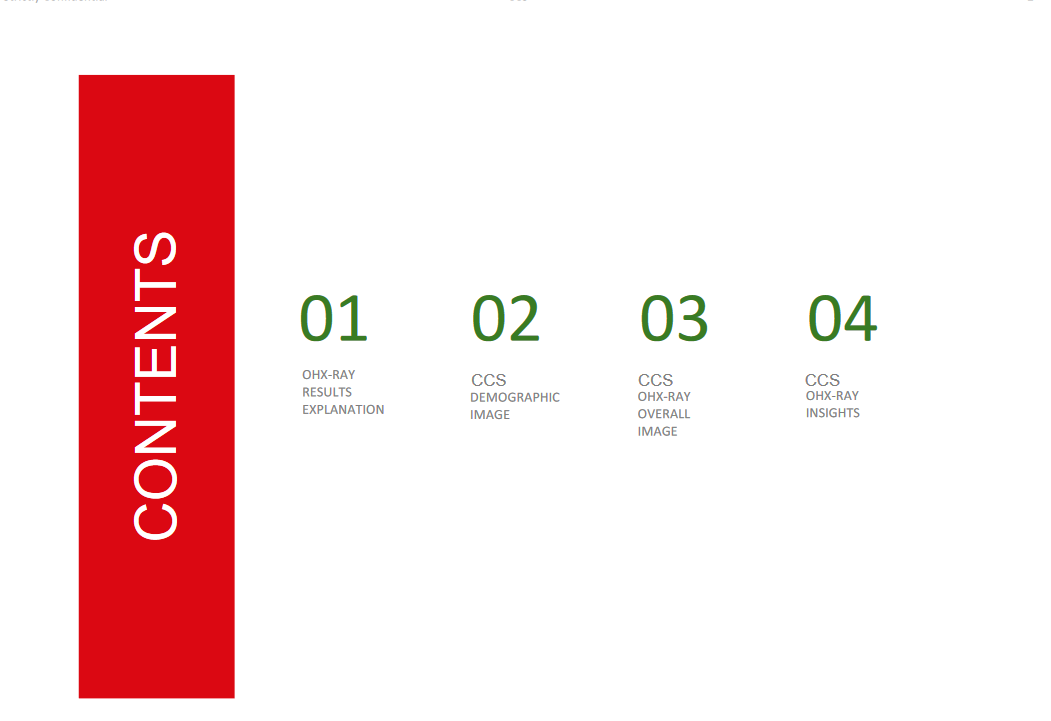

Layout of this report page (visuals, bound fields, positions):
{"tool":"powerbi","page":{"name":"Page 2","canvas":[1280,720],"ordinal":1},"visuals":[{"type":"image","box":[285,0,740,720],"z":0}]}

Visuals, with their boxes on the page's 1280x720 design canvas (x1, y1, x2, y2). These are canvas units, not pixel positions in the 1051x721 screenshot, which may show the page scaled, cropped or inside an application window:
image: left=285, top=0, right=1025, bottom=720
